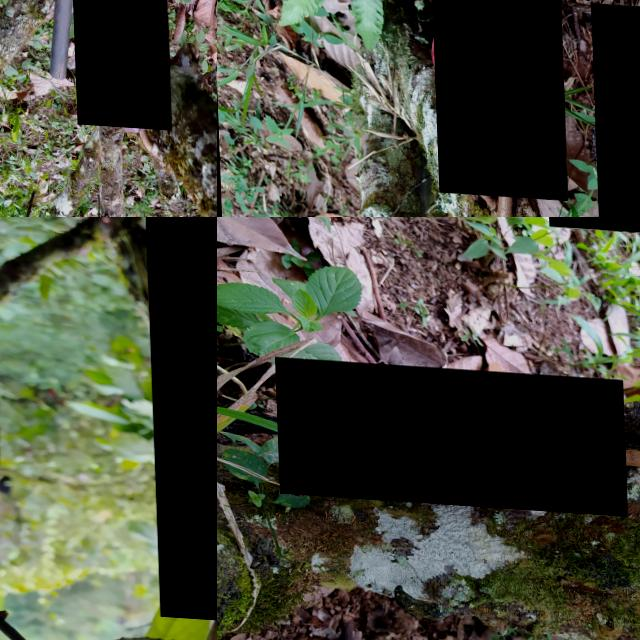Fitoftora: (144, 217, 217, 628), (427, 0, 565, 196), (589, 0, 640, 217)
Monilia: (273, 355, 625, 509)
Sana: (66, 0, 168, 126)
